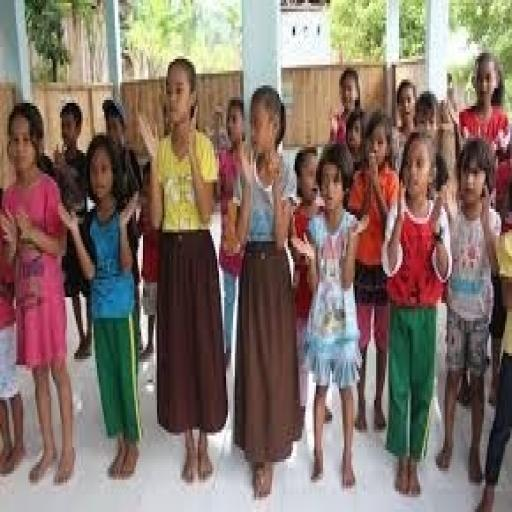clapping: (52, 78, 240, 512), (364, 56, 482, 490), (258, 132, 376, 467), (143, 56, 230, 485), (224, 82, 304, 500), (0, 100, 76, 486)
